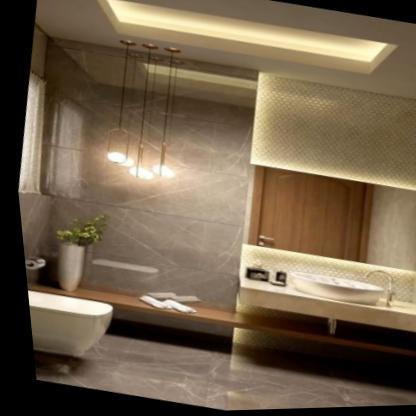Ceramic floor: (27, 335, 412, 412)
